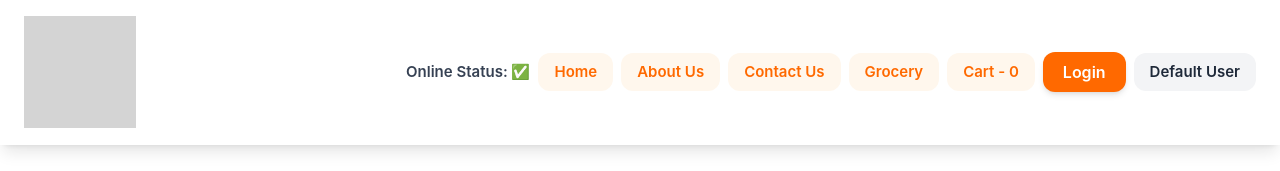
Test: Should change Login button to Logout button on click
The width and height of the screenshot is (1280, 171).
Click the button "Login" at (1084, 72), box [1043,52,1126,92]
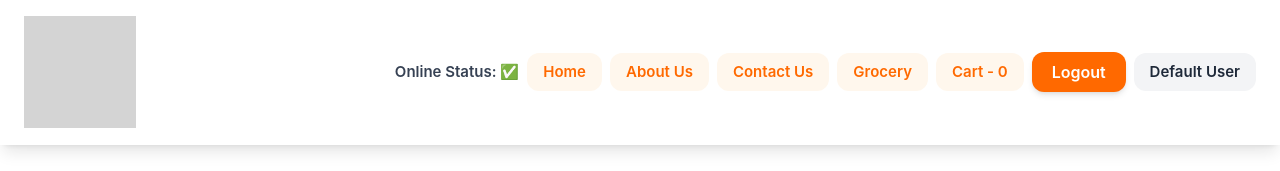
Expected: the button "Logout" is shown, [1032,52,1126,92]
